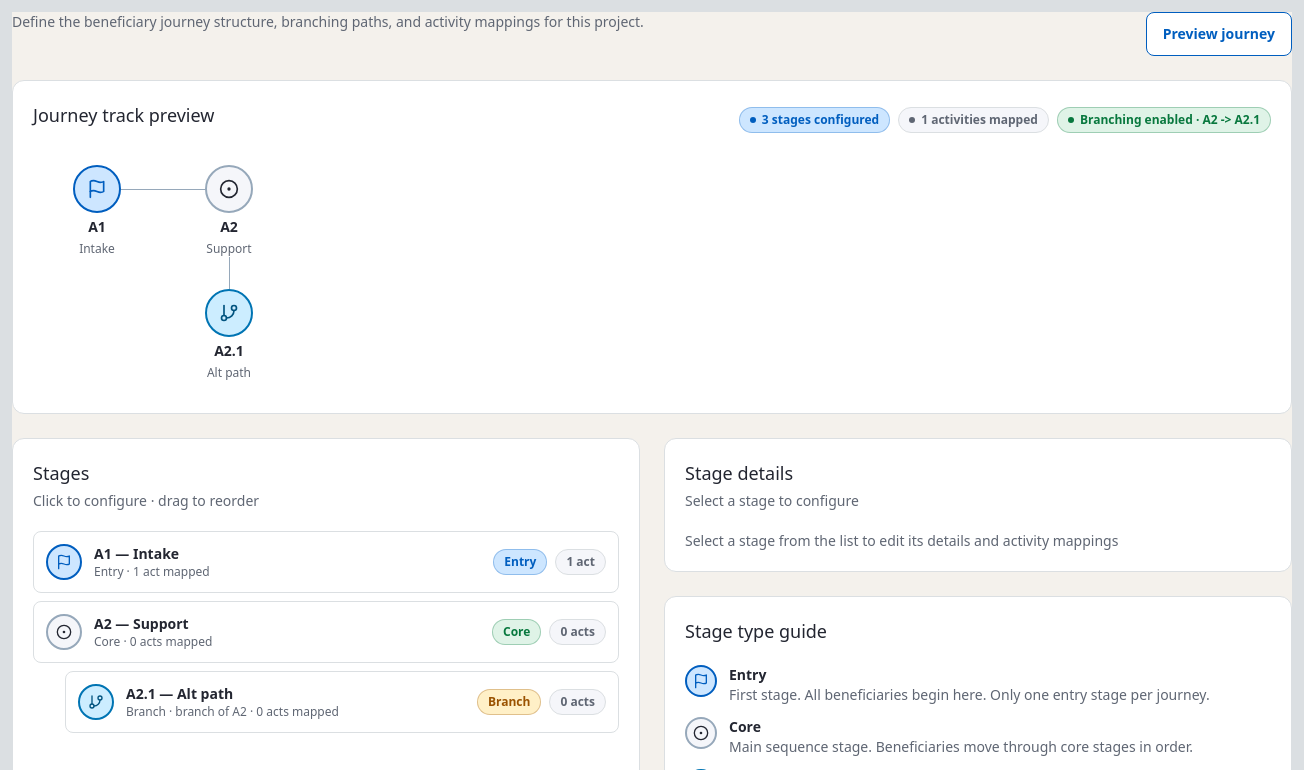
Test: JourneyConfigWorkspace › hides edit controls for read-only roles
Click the button "A1 — Intake Entry · 1 act mapped" at (64, 562), box x1=46 y1=544 x2=481 y2=580
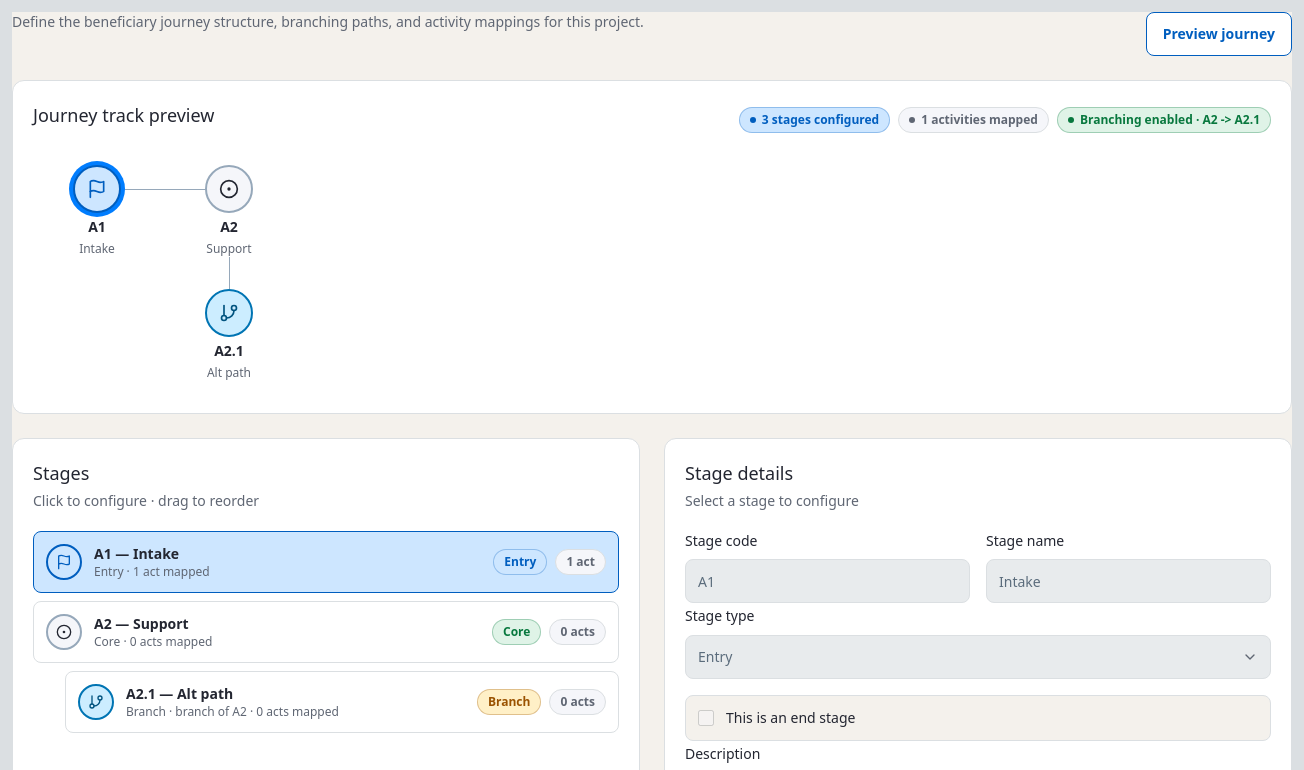
Expected: the field showing "Intake" is disabled, x1=986 y1=559 x2=1271 y2=603
